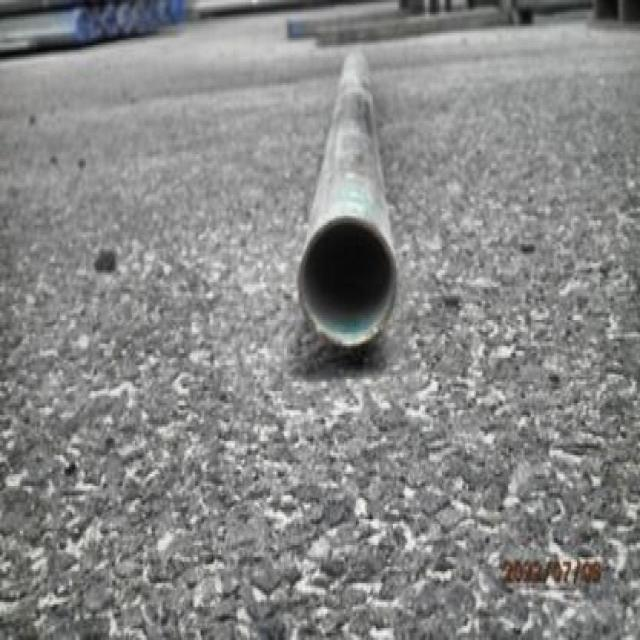pipe: (299, 214, 398, 349)
